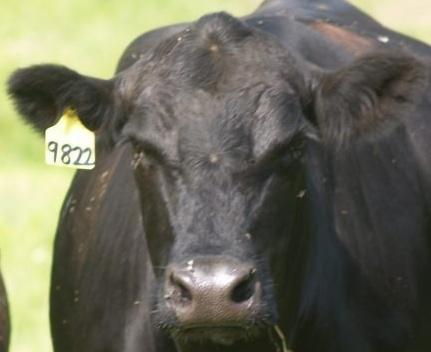muzzles: (158, 263, 276, 337)
